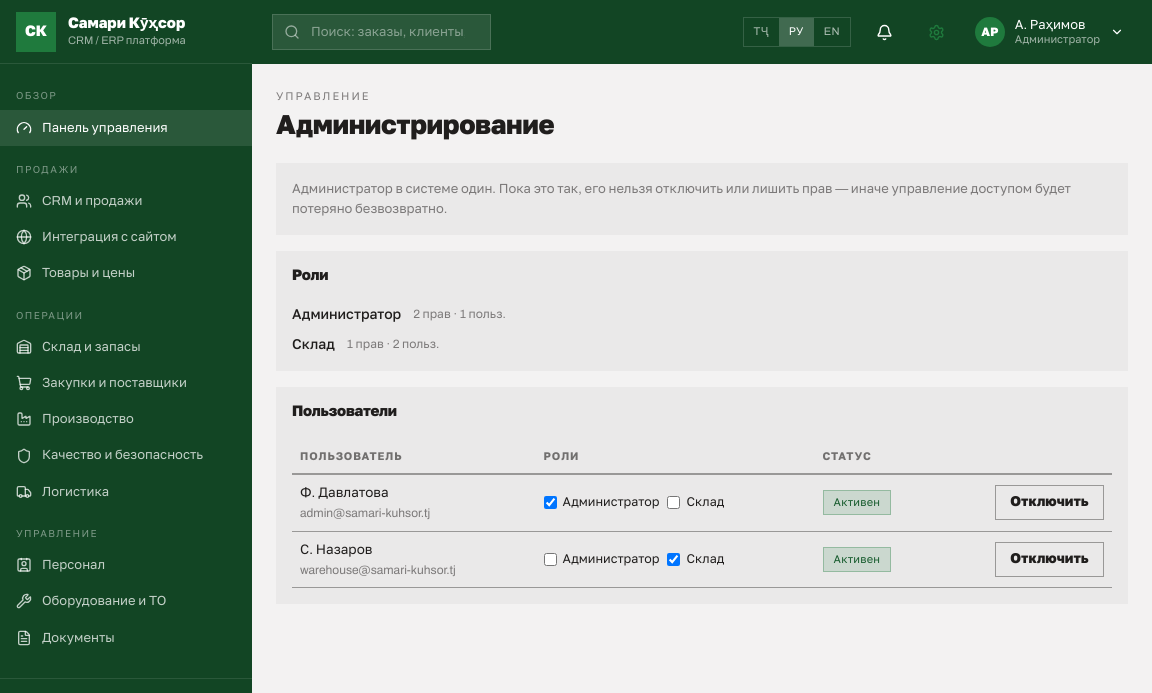
Test: Администрирование › renders the permission grid from the catalogue the server sent
Click the button "Администратор" at (347, 315), box left=292, top=304, right=401, bottom=326
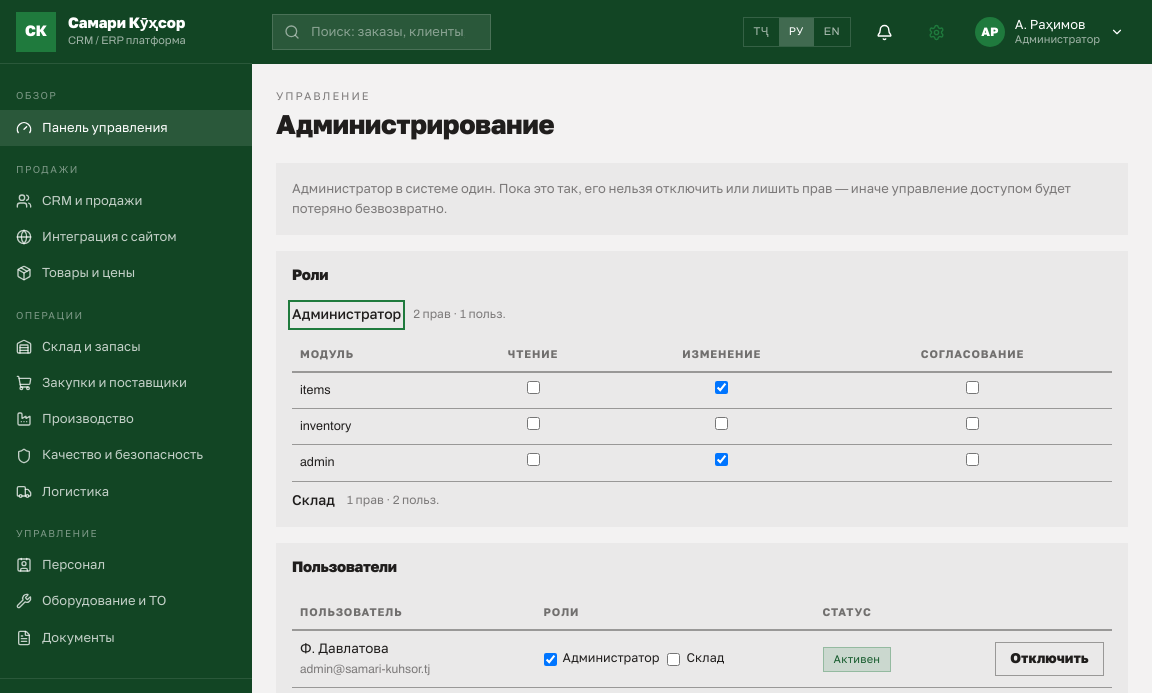
Expected: the checkbox named "items:manage" is checked, left=715, top=381, right=728, bottom=394
Expected: the checkbox named "inventory:manage" is not checked, left=715, top=417, right=728, bottom=430
Expected: the checkbox named "admin:manage" is checked, left=715, top=453, right=728, bottom=466
